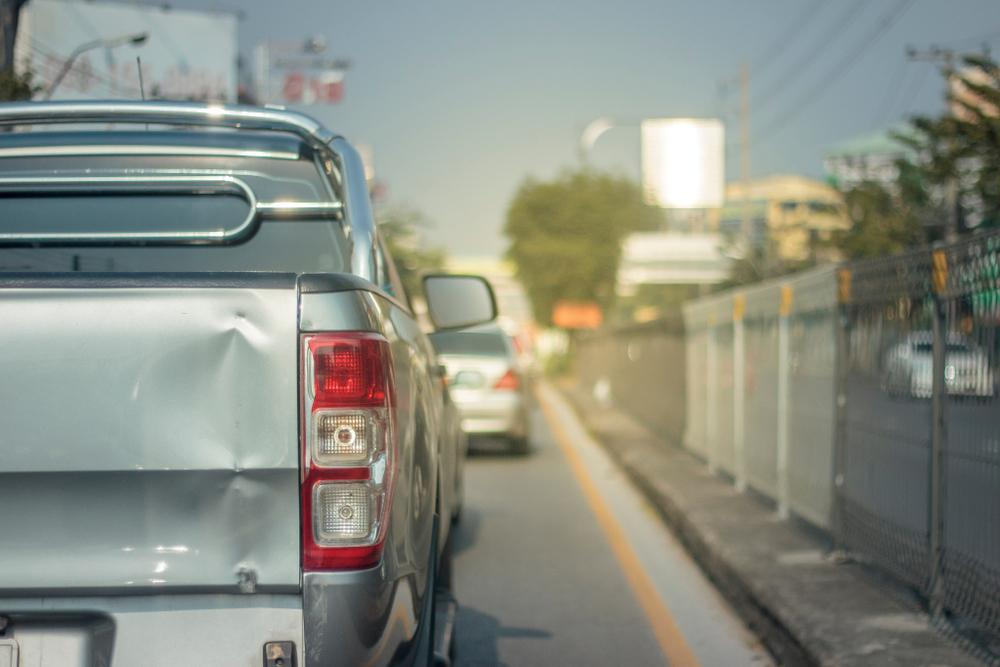dent: (123, 288, 289, 569)
lamp broken: (295, 330, 398, 574)
